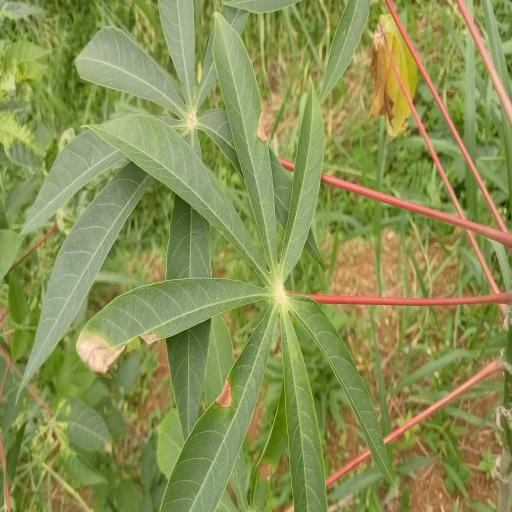Cassava_Brown_Leaf_Spot: (77, 4, 398, 512)
